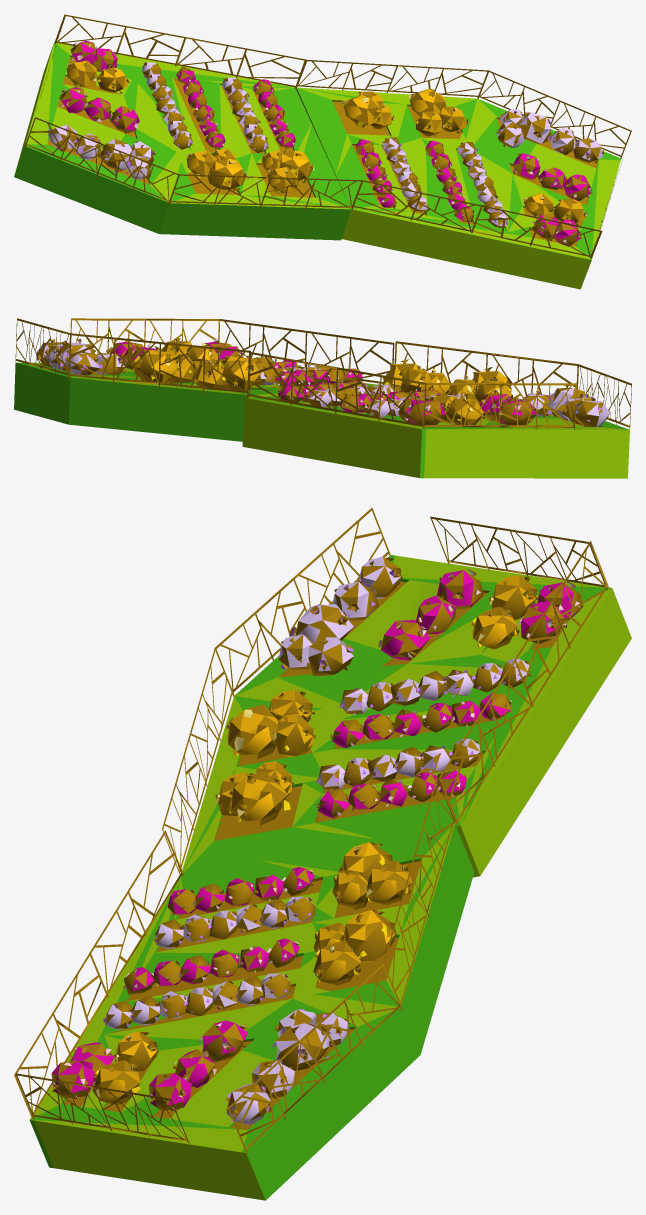
The model's file is AlanGarden_v5.gltf.
The picture shows the model from 3 angles, top to bottom: view 1: azimuth 30°, elevation 25°; view 2: azimuth 150°, elevation 25°; view 3: azimuth 270°, elevation 25°; orthographic projection. The views are drawn at different scales.
Visible parts, largest first — view 1: Ground, Flowers, Fence; view 2: Ground, Flowers, Fence; view 3: Ground, Flowers, Fence.
Part boxes in pixels (bbox=[...]): Ground: bbox=[14, 42, 621, 289]; Flowers: bbox=[48, 40, 604, 246]; Fence: bbox=[24, 14, 631, 258]; Ground: bbox=[14, 362, 629, 478]; Flowers: bbox=[36, 338, 609, 426]; Fence: bbox=[15, 318, 631, 429]; Ground: bbox=[29, 555, 631, 1200]; Flowers: bbox=[51, 556, 583, 1124]; Fence: bbox=[14, 507, 608, 1154].
Size of the model in its own units: 4352 by 1727 by 2654.
